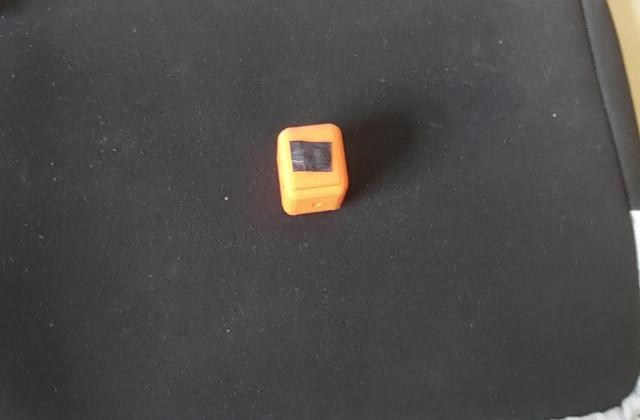black: (283, 136, 338, 176)
sticker: (268, 119, 354, 221)
